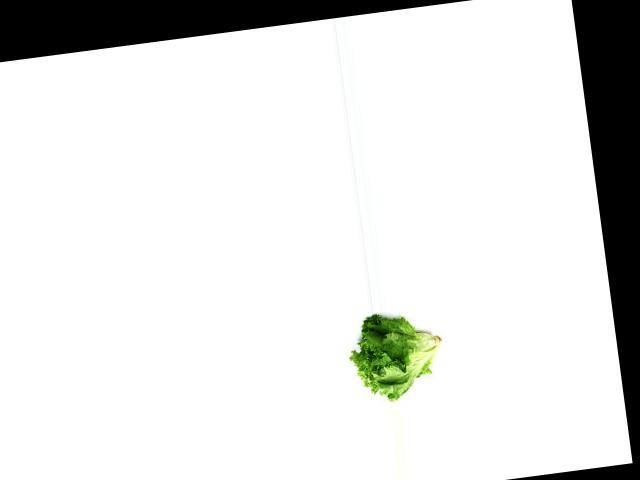lettuce: (346, 304, 449, 407)
